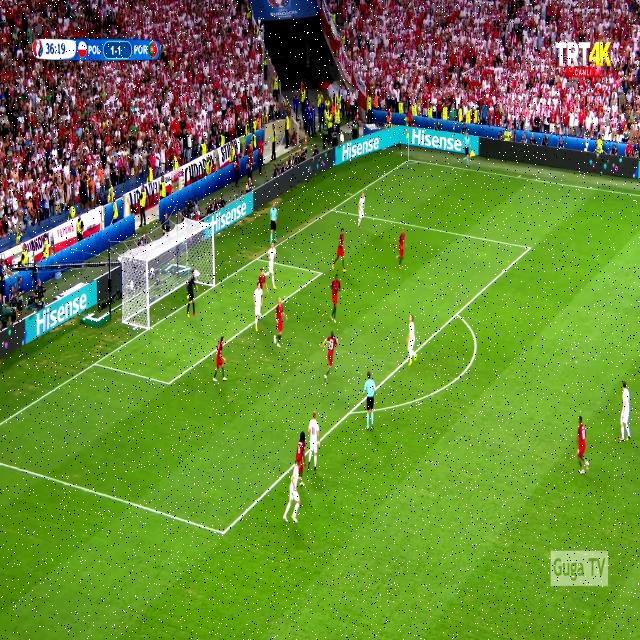Ball: (338, 129, 347, 150)
GoalKeeper: (188, 262, 198, 318)
TEAM 1: (320, 329, 342, 382), (332, 221, 352, 272), (576, 415, 589, 475), (273, 298, 287, 346), (214, 338, 228, 384), (329, 276, 342, 323), (296, 428, 306, 480), (396, 222, 408, 264), (259, 267, 269, 305)
TEAM 2: (282, 454, 303, 524), (305, 402, 321, 482), (619, 383, 632, 442), (254, 274, 266, 325), (405, 316, 417, 365), (267, 237, 277, 290), (358, 189, 367, 234)
